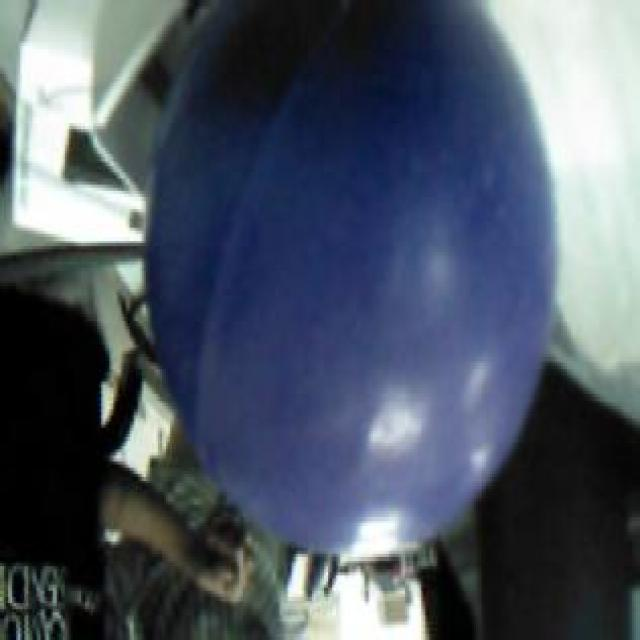BallPurple: (142, 0, 555, 560)
